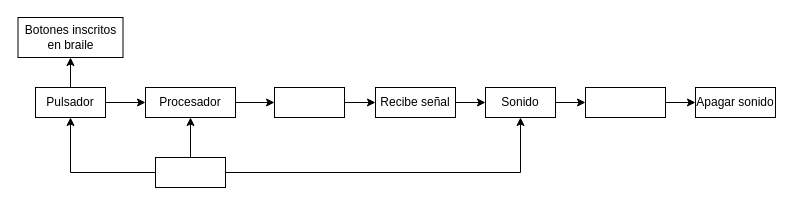
This 793x205 diagram has some shape labels left out. The box of each missing label's shape, as (x1, y1, x2, y2) in pixels:
Energia: (154, 156, 226, 188)
Envia señal: (274, 86, 344, 118)
Esperar 6 seg: (584, 86, 666, 118)
